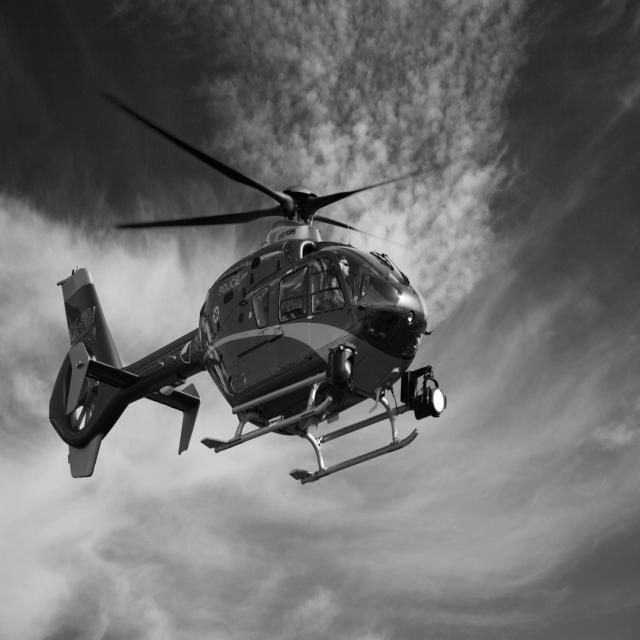helicopter: (57, 90, 460, 486)
